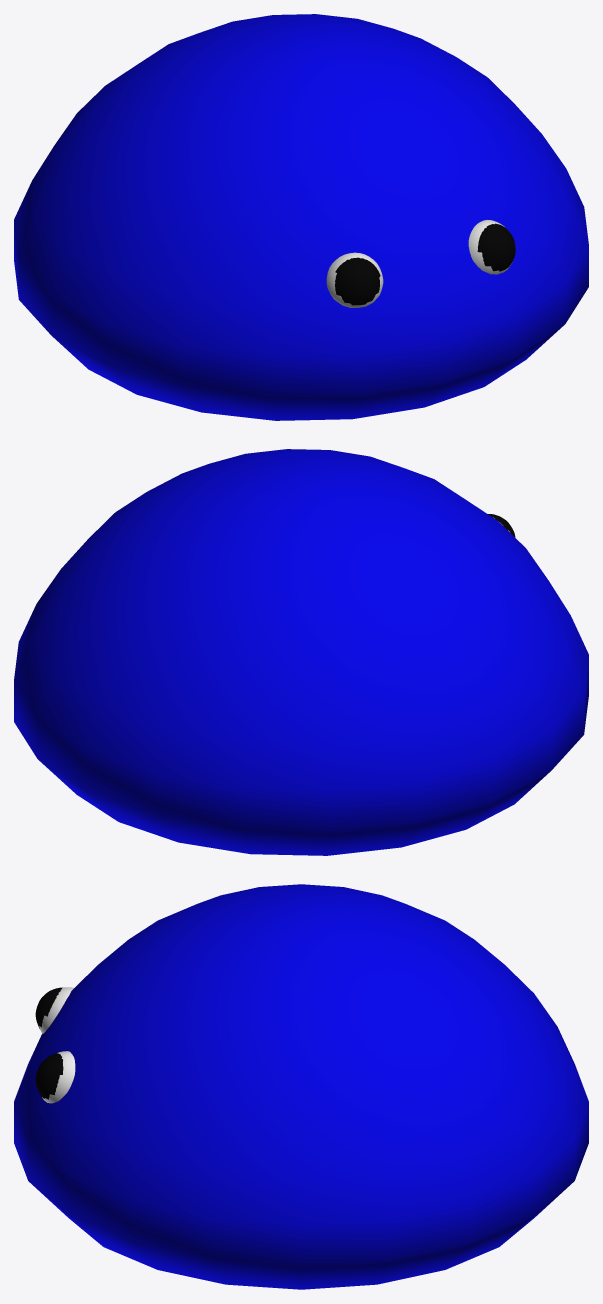
The model's file is BlueSlime.fbx.
The picture shows the model from 3 angles, top to bottom: view 1: azimuth 30°, elevation 25°; view 2: azimuth 150°, elevation 25°; view 3: azimuth 270°, elevation 25°; orthographic projection.
Parts seen in each view (by area): view 1: Body, pSphere1, pSphere2, RightEye, LeftEye; view 2: Body; view 3: Body, pSphere2, LeftEye.
Part boxes in pixels (x1,y1,x2,y2): Body: (14, 14, 588, 420); pSphere1: (335, 257, 380, 305); pSphere2: (477, 223, 515, 271); RightEye: (326, 252, 383, 307); LeftEye: (468, 220, 512, 274); Body: (14, 449, 588, 855); Body: (14, 884, 588, 1289); pSphere2: (35, 1053, 63, 1099); LeftEye: (42, 1051, 75, 1103).
Size of the model in its own units: 1.9 by 1 by 1.9.
